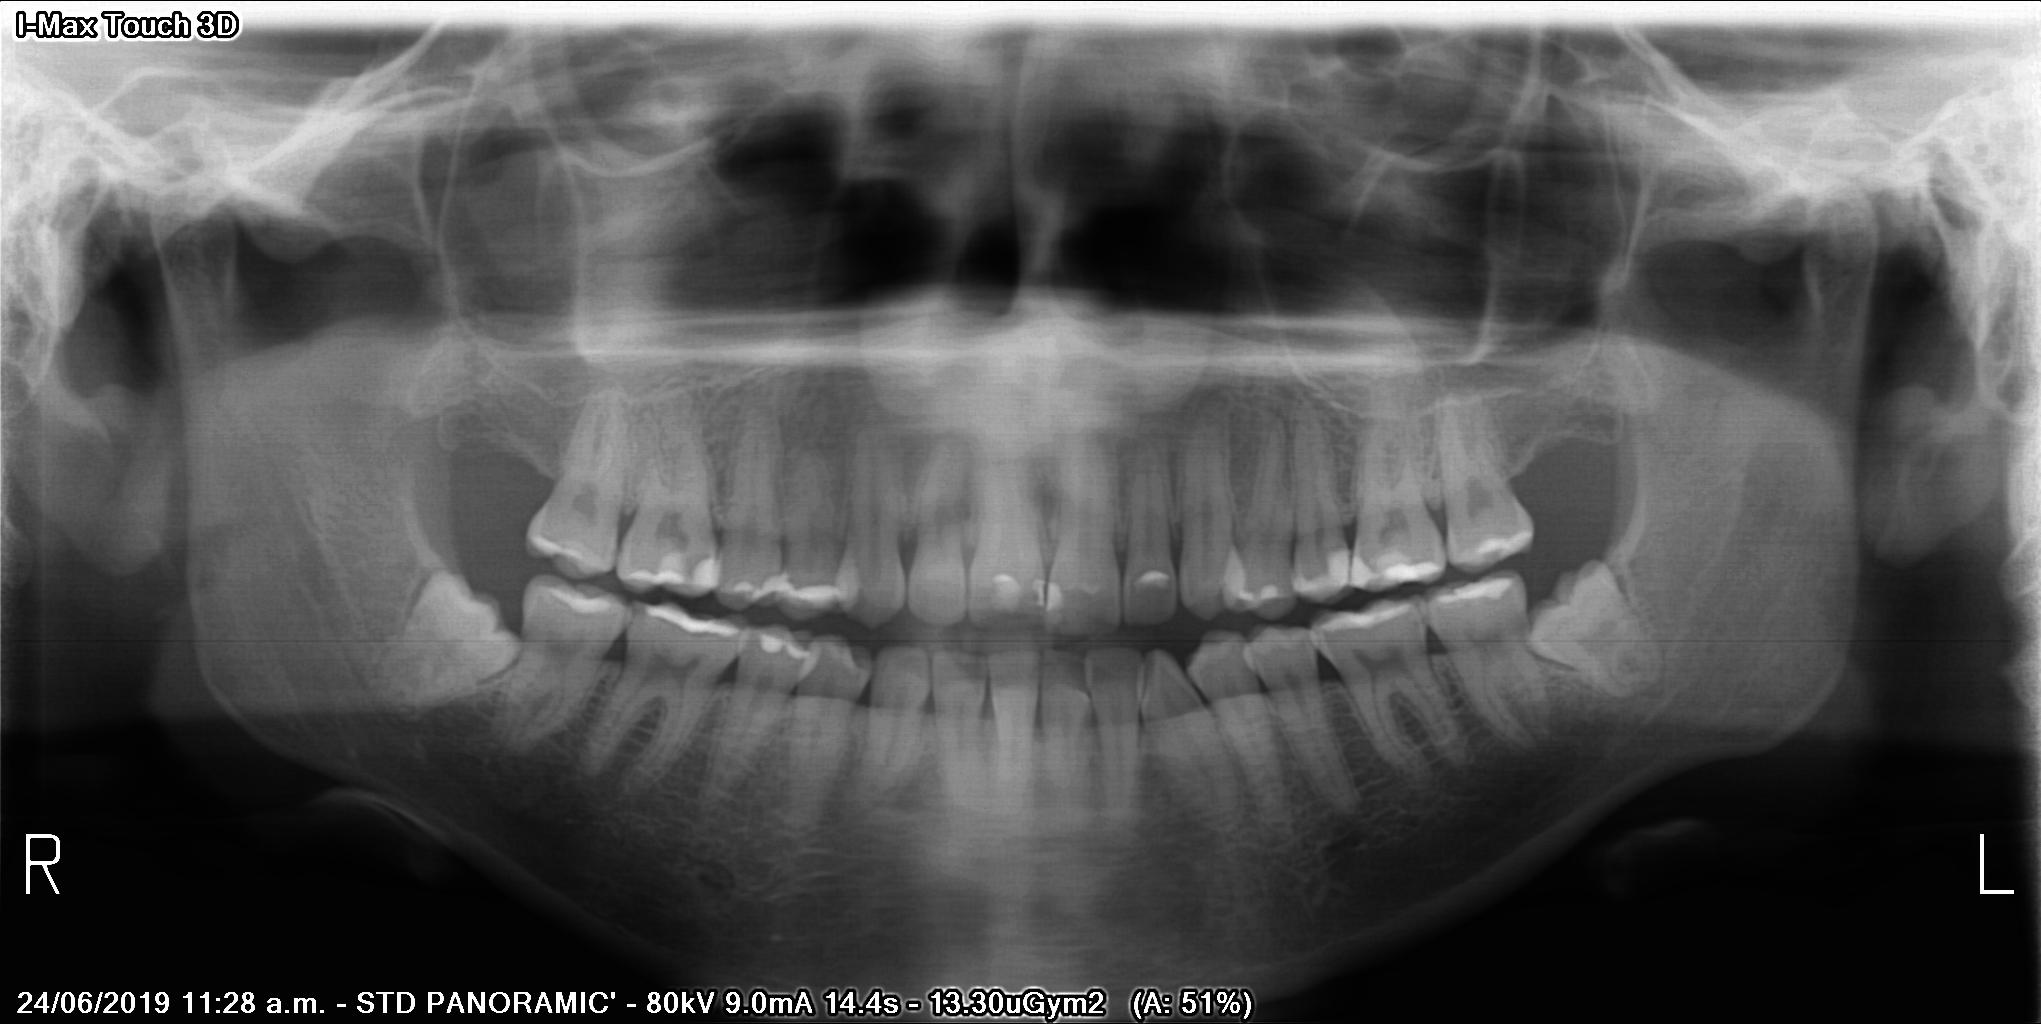Çürük: (635, 602, 740, 644), (1432, 522, 1534, 566), (746, 567, 851, 607), (636, 550, 718, 597), (520, 533, 612, 572), (543, 579, 619, 623), (1423, 579, 1520, 613), (1301, 545, 1353, 597), (1371, 550, 1438, 581), (1319, 610, 1416, 628), (757, 630, 810, 661), (1239, 581, 1285, 602), (1046, 585, 1063, 619), (1139, 575, 1167, 588)
